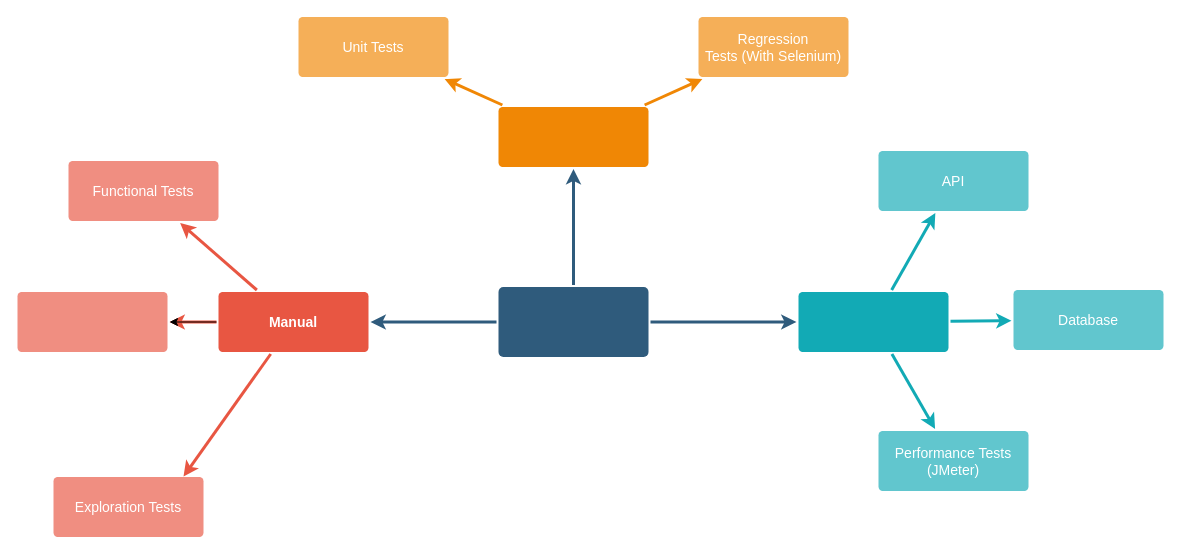
Image size: 1180x554. Some labels were removed from this diagram. The shapes that lost their labels are listed below. From the top down, each one's centre as x and y in pixels, then its label:
At point (573, 136): "Automation".
At point (92, 322): "Smoke Tests".
At point (573, 321): "Testing".
At point (873, 322): "Others".
